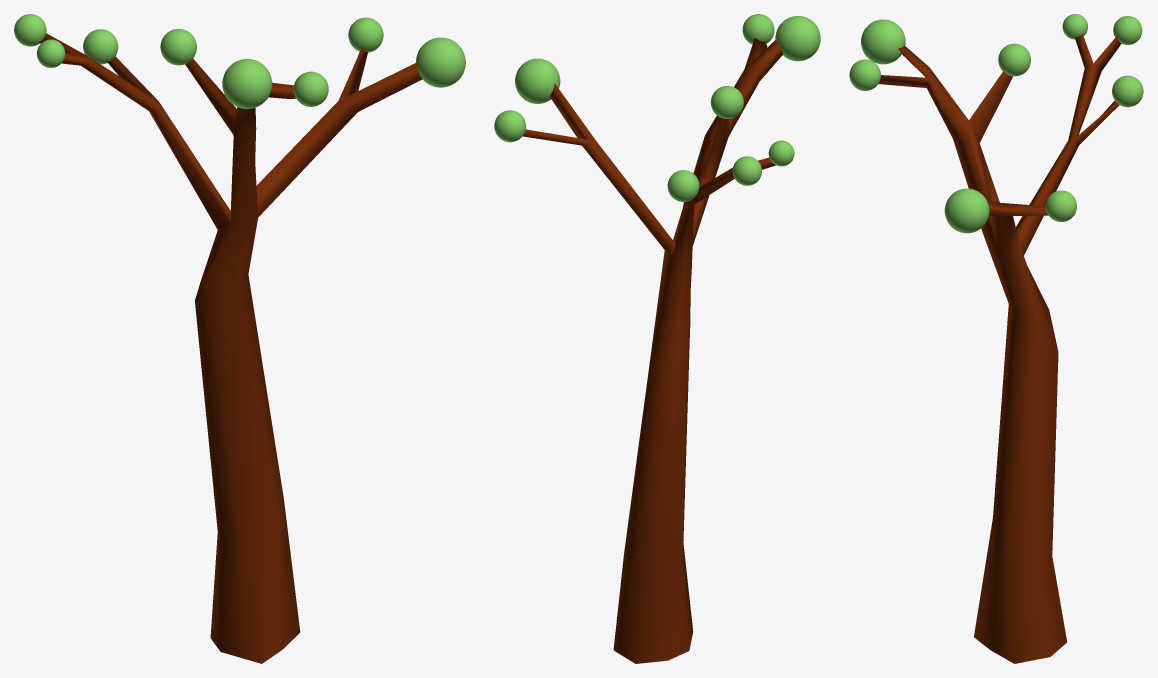
The model's file is LowPolyTree.gltf.
3 views of the same model, side by side, from view 1: azimuth 30°, elevation 25°; view 2: azimuth 150°, elevation 25°; view 3: azimuth 270°, elevation 25° (orthographic). The views are drawn at different scales.
Parts seen in each view (by area): view 1: Circle_Circle, Sphere6, Sphere, Sphere5, Sphere7, Sphere2, Sphere4, Sphere3, Sphere1; view 2: Circle_Circle, Sphere6, Sphere, Sphere5, Sphere4, Sphere2, Sphere7, Sphere3, Sphere1; view 3: Circle_Circle, Sphere, Sphere6, Sphere5, Sphere7, Sphere4, Sphere2, Sphere3, Sphere1.
Part boxes in pixels (bbox=[...]): Circle_Circle: bbox=[39, 33, 422, 663]; Sphere6: bbox=[222, 59, 272, 108]; Sphere: bbox=[415, 37, 465, 87]; Sphere5: bbox=[160, 29, 196, 65]; Sphere7: bbox=[293, 71, 328, 106]; Sphere2: bbox=[348, 17, 383, 52]; Sphere4: bbox=[83, 29, 118, 64]; Sphere3: bbox=[14, 14, 46, 46]; Sphere1: bbox=[36, 39, 65, 67]; Circle_Circle: bbox=[523, 38, 782, 663]; Sphere6: bbox=[775, 16, 820, 61]; Sphere: bbox=[515, 58, 560, 103]; Sphere5: bbox=[710, 86, 743, 118]; Sphere4: bbox=[667, 170, 699, 201]; Sphere2: bbox=[494, 110, 526, 142]; Sphere7: bbox=[742, 14, 774, 44]; Sphere3: bbox=[732, 156, 761, 185]; Sphere1: bbox=[768, 140, 794, 166]; Circle_Circle: bbox=[878, 34, 1121, 663]; Sphere: bbox=[944, 188, 989, 233]; Sphere6: bbox=[861, 19, 905, 64]; Sphere5: bbox=[998, 43, 1030, 76]; Sphere7: bbox=[849, 59, 880, 90]; Sphere4: bbox=[1112, 75, 1143, 107]; Sphere2: bbox=[1045, 190, 1076, 221]; Sphere3: bbox=[1113, 16, 1142, 44]; Sphere1: bbox=[1062, 14, 1087, 39].
Size of the model in its own units: 8.37 by 14.43 by 6.55.
